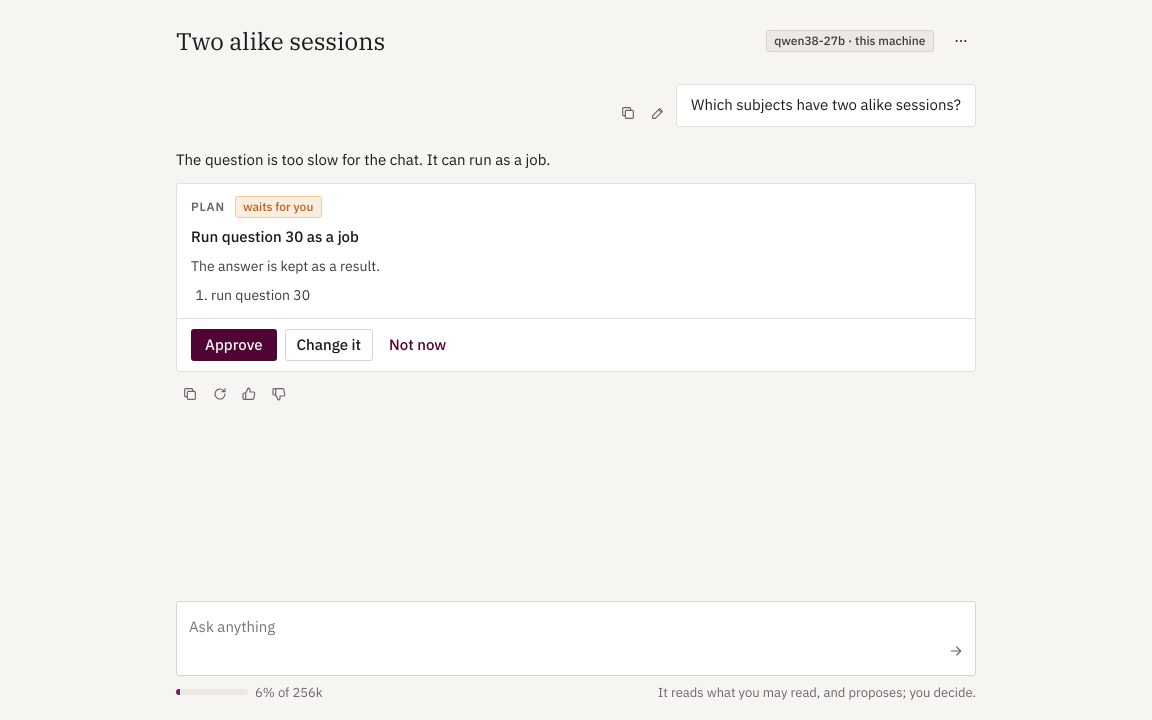
it: a decision on the one card › says why a decision was refused where the card's own words do not: a plan approved on its own card cannot be declined
Click the button "Not now" at (418, 346), box [381, 330, 454, 362]
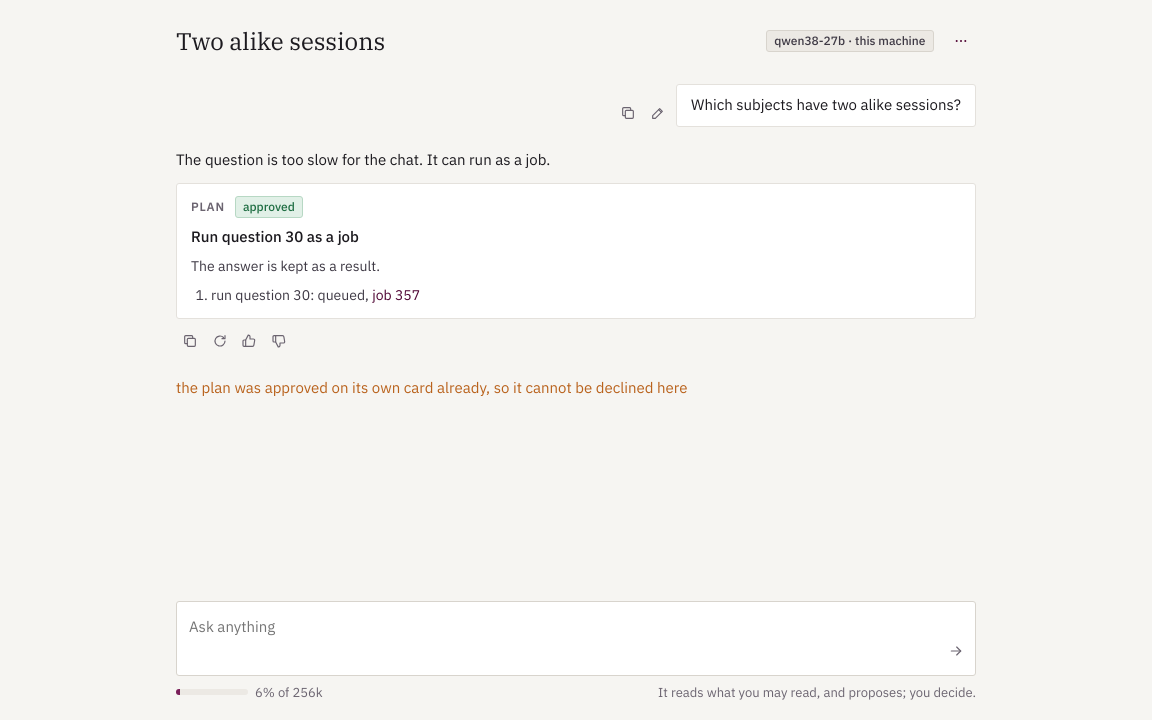
Now the text with class "warn" reads "the plan was approved on its own card already, so it cannot be declined here", box [176, 378, 688, 397]
